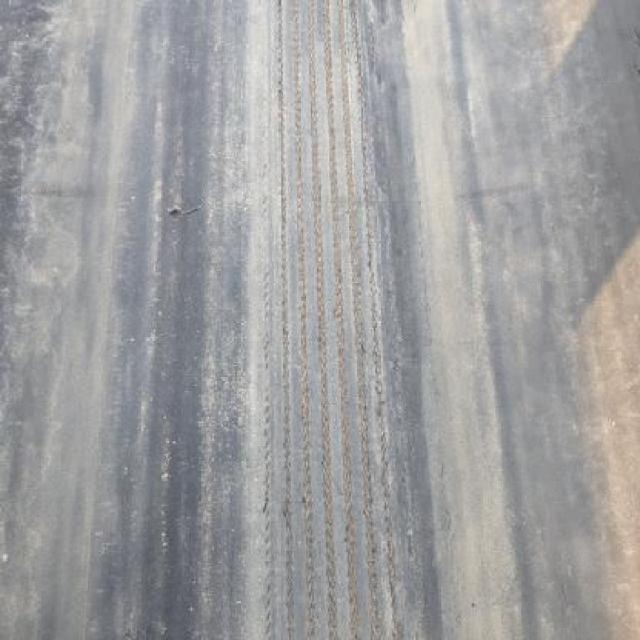Wear: (251, 0, 417, 640)
